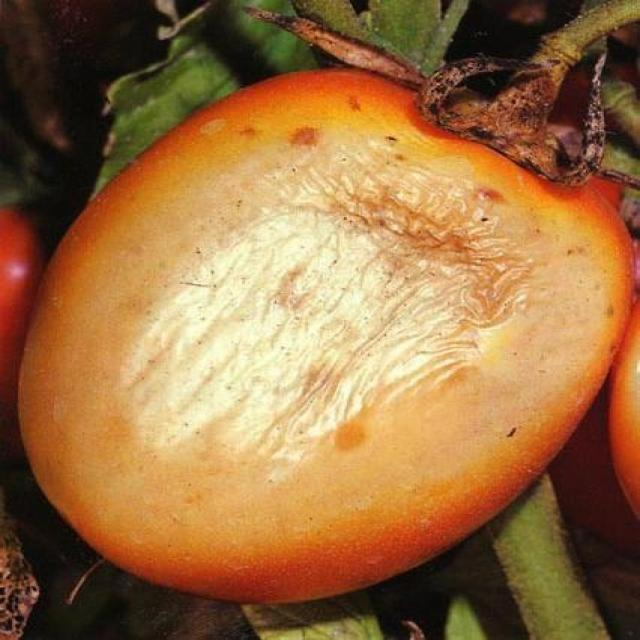Sunscald Fruit: (77, 83, 340, 370)
